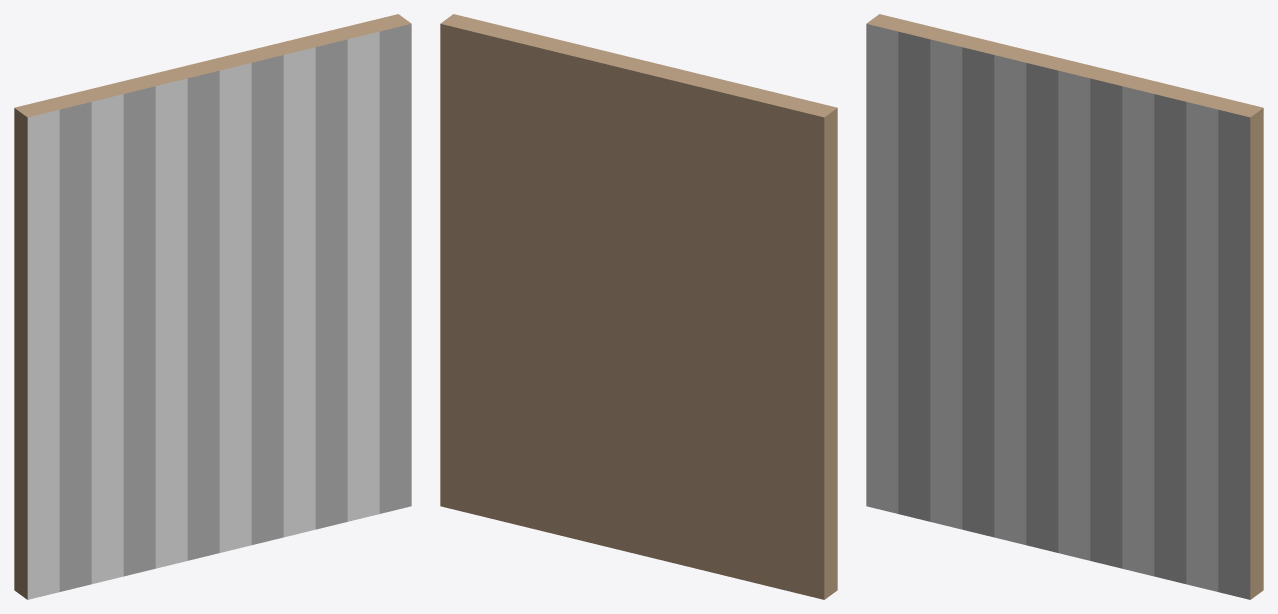
The model's file is Wall2_C8_01.fbx.
3 renders of one model, left to right at view 1: azimuth 30°, elevation 25°; view 2: azimuth 150°, elevation 25°; view 3: azimuth 330°, elevation 25°, orthographic.
Visible parts, largest first — view 1: Wall2_C8_01; view 2: Wall2_C8_01; view 3: Wall2_C8_01.
Part boxes in pixels (box(x1,y1,x2,y2)): Wall2_C8_01: box(14, 14, 411, 599); Wall2_C8_01: box(440, 14, 837, 599); Wall2_C8_01: box(866, 14, 1263, 599).
Bounding box in the file's own units: 250 × 300 × 15.
